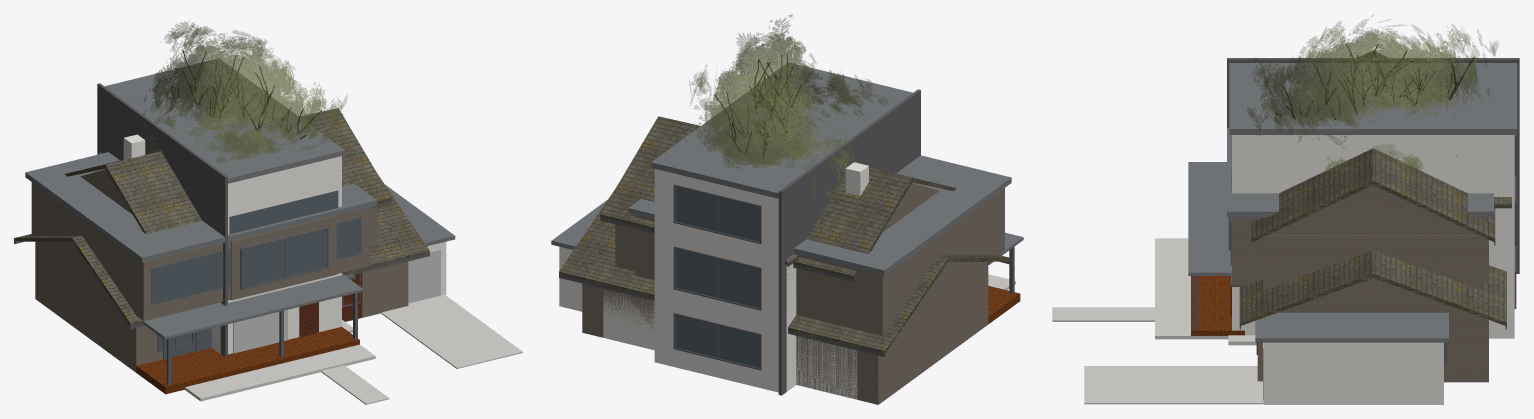
The model's file is props.glb.
3 views of the same model, side by side, from view 1: azimuth 30°, elevation 25°; view 2: azimuth 150°, elevation 25°; view 3: azimuth 270°, elevation 25° (orthographic). The views are drawn at different scales.
Parts seen in each view (by area): view 1: Leaves.002, Roof.007, Upper floor.001, Walls, Roof.005, Roof.003, Party wall.001, Walls.001, Deck, Driveway, Veranda roof, Roof.004 (+16 smaller); view 2: Roof.007, Walls.001, Leaves.002, Walls, Upper floor.001, Roof.003, Party wall.001, Roof.005, Roof.004, Ground floor.001, Window.018, Window.019 (+12 smaller); view 3: Roof.007, Leaves.002, Walls.001, Garage, Roof.004, Roof.003, Upper floor, Driveway, Garage roof, Gable, Veranda roof, Terrace (+9 smaller).
Part boxes in pixels (x1=…): Leaves.002: x1=144, y1=19, x2=347, y2=159; Roof.007: x1=105, y1=58, x2=344, y2=183; Upper floor.001: x1=31, y1=182, x2=370, y2=320; Walls: x1=35, y1=242, x2=408, y2=372; Roof.005: x1=25, y1=152, x2=377, y2=262; Roof.003: x1=64, y1=108, x2=391, y2=234; Party wall.001: x1=97, y1=83, x2=227, y2=357; Walls.001: x1=228, y1=156, x2=341, y2=354; Deck: x1=136, y1=327, x2=359, y2=394; Driveway: x1=381, y1=294, x2=522, y2=368; Veranda roof: x1=142, y1=273, x2=362, y2=339; Roof.004: x1=14, y1=175, x2=429, y2=326; Roof.007: x1=651, y1=62, x2=912, y2=198; Walls.001: x1=654, y1=169, x2=778, y2=392; Leaves.002: x1=689, y1=14, x2=877, y2=168; Walls: x1=582, y1=263, x2=988, y2=404; Upper floor.001: x1=635, y1=188, x2=1004, y2=335; Roof.003: x1=600, y1=116, x2=956, y2=279; Party wall.001: x1=778, y1=89, x2=920, y2=395; Roof.005: x1=628, y1=155, x2=1011, y2=275; Roof.004: x1=559, y1=190, x2=1011, y2=354; Ground floor.001: x1=603, y1=289, x2=857, y2=399; Window.018: x1=675, y1=249, x2=759, y2=308; Window.019: x1=675, y1=187, x2=759, y2=241; Roof.007: x1=1229, y1=63, x2=1517, y2=134; Leaves.002: x1=1247, y1=14, x2=1498, y2=149; Walls.001: x1=1232, y1=135, x2=1514, y2=338; Garage: x1=1264, y1=342, x2=1443, y2=404; Roof.004: x1=1239, y1=250, x2=1506, y2=325; Roof.003: x1=1251, y1=50, x2=1495, y2=242; Upper floor: x1=1263, y1=235, x2=1483, y2=290; Driveway: x1=1084, y1=366, x2=1263, y2=404; Garage roof: x1=1255, y1=312, x2=1448, y2=342; Gable: x1=1267, y1=185, x2=1479, y2=235; Veranda roof: x1=1188, y1=162, x2=1231, y2=275; Terrace: x1=1155, y1=238, x2=1228, y2=339.
Bounding box in the file's own units: 17.05 × 12.63 × 18.2.
Materials: 27 (6 with a texture image).
